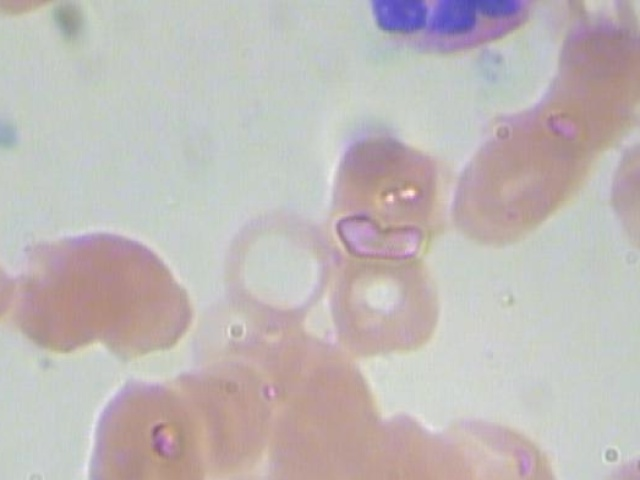RBC: (324, 128, 451, 266), (450, 119, 577, 257), (209, 196, 336, 333), (324, 235, 451, 372), (6, 222, 135, 352), (76, 374, 223, 480), (89, 227, 199, 359), (596, 128, 640, 266), (0, 0, 92, 19)
WBC: (358, 0, 555, 63)
